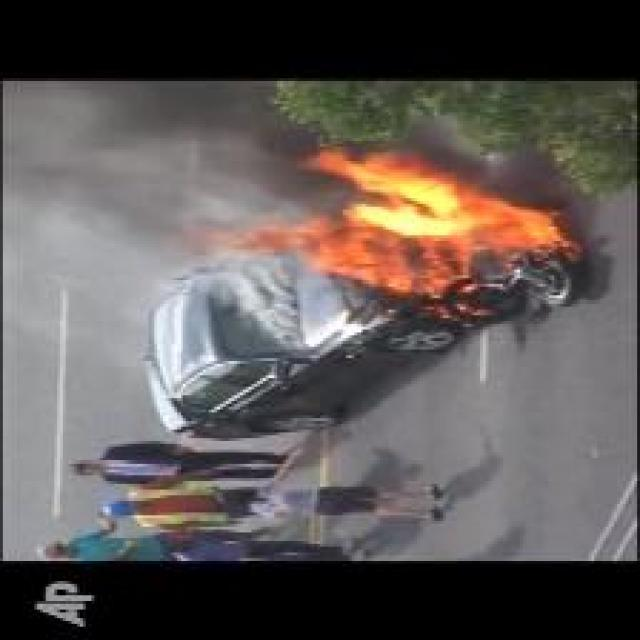Fire: (184, 148, 582, 302)
